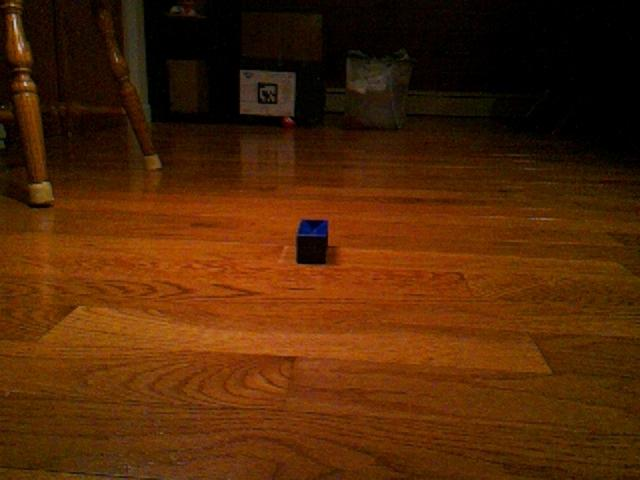blue: (295, 217, 330, 266)
